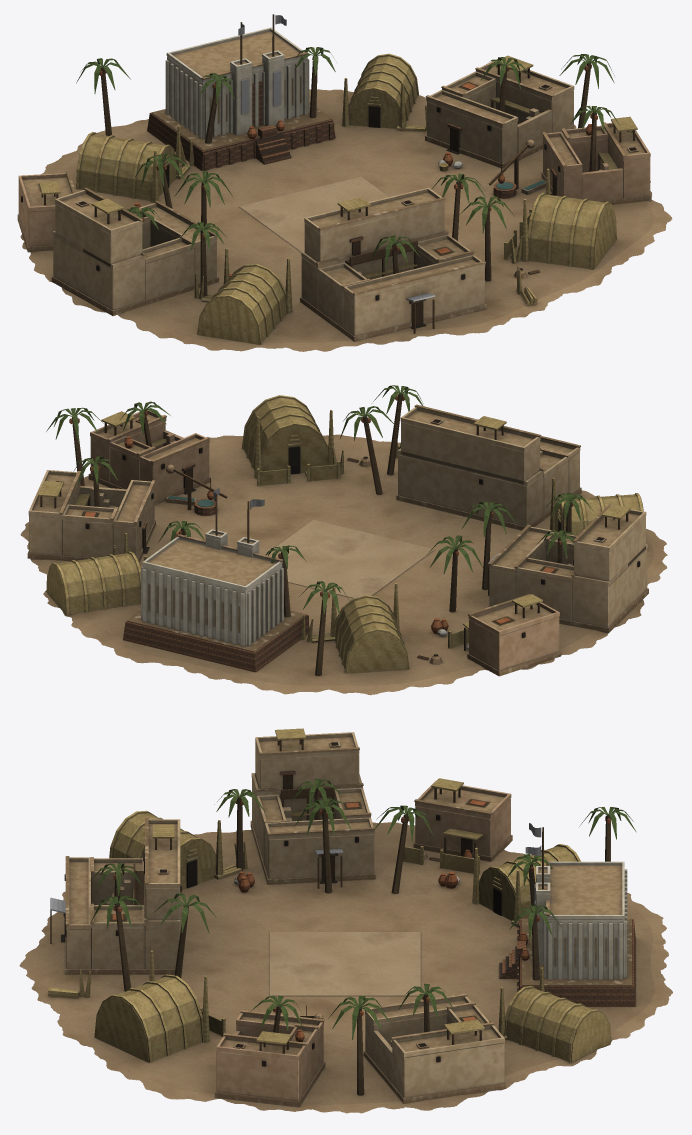
Rendered from bronze-town-small-b-mesopotamia.glb.
3 views of the same model, one above another, from view 1: azimuth 30°, elevation 25°; view 2: azimuth 150°, elevation 25°; view 3: azimuth 270°, elevation 25° (orthographic). The views are drawn at different scales.
Visible parts, largest first — view 1: LOD0; view 2: LOD0; view 3: LOD0.
Boxes of the visible parts, box(x1,y1,x2,y2) form: LOD0: box(17, 14, 672, 351); LOD0: box(20, 385, 667, 695); LOD0: box(19, 728, 672, 1113).
Size of what is drawn, in the model's own units: 3.98 by 0.8699 by 3.71.
3 materials, 3 textured.
